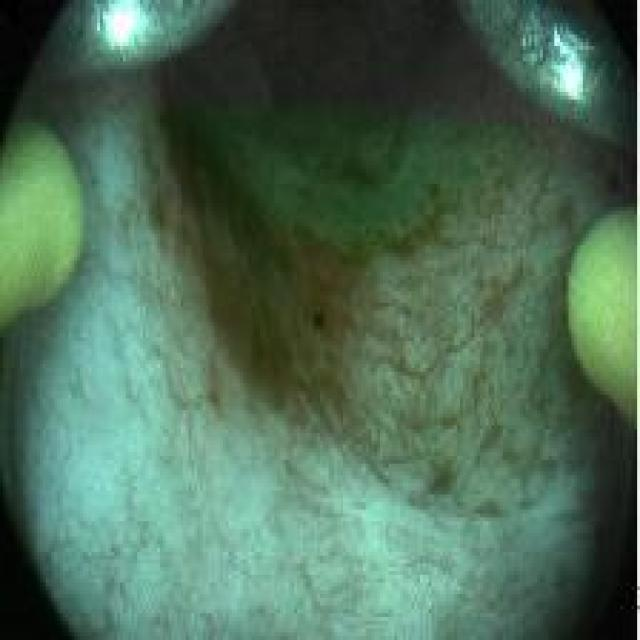color misalignment: (310, 308, 328, 331)
contrast: (172, 3, 475, 152)
instrument: (455, 0, 637, 154), (1, 113, 88, 327), (565, 203, 636, 427), (24, 0, 226, 74)
specularity: (96, 0, 149, 52), (549, 32, 586, 98)
